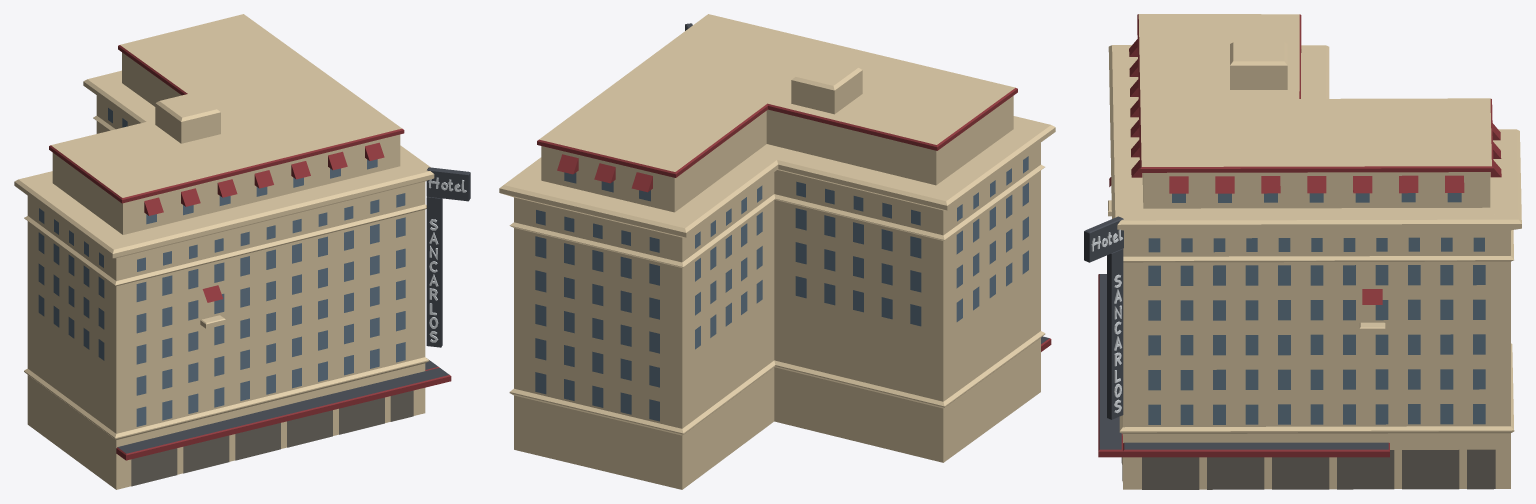
Rendered from phx-hotel-san-carlos.glb.
3 views of the same model, side by side, from view 1: azimuth 30°, elevation 25°; view 2: azimuth 150°, elevation 25°; view 3: azimuth 270°, elevation 25° (orthographic). The views are drawn at different scales.
Parts seen in each view (by area): view 1: Hotel San Carlos; view 2: Hotel San Carlos; view 3: Hotel San Carlos.
Boxes of the visible parts, x1,y1,x2,y2 form: Hotel San Carlos: [14, 14, 470, 489]; Hotel San Carlos: [499, 14, 1055, 489]; Hotel San Carlos: [1084, 14, 1521, 489].
Bounding box in the file's own units: 35.15 × 29.5 × 34.23.
